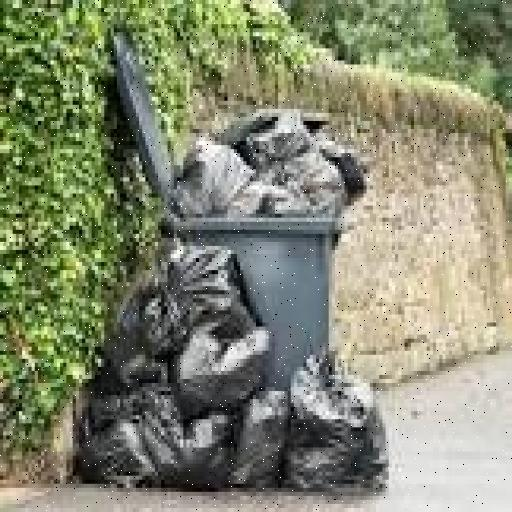poubelle_pleine: (85, 55, 401, 512)
